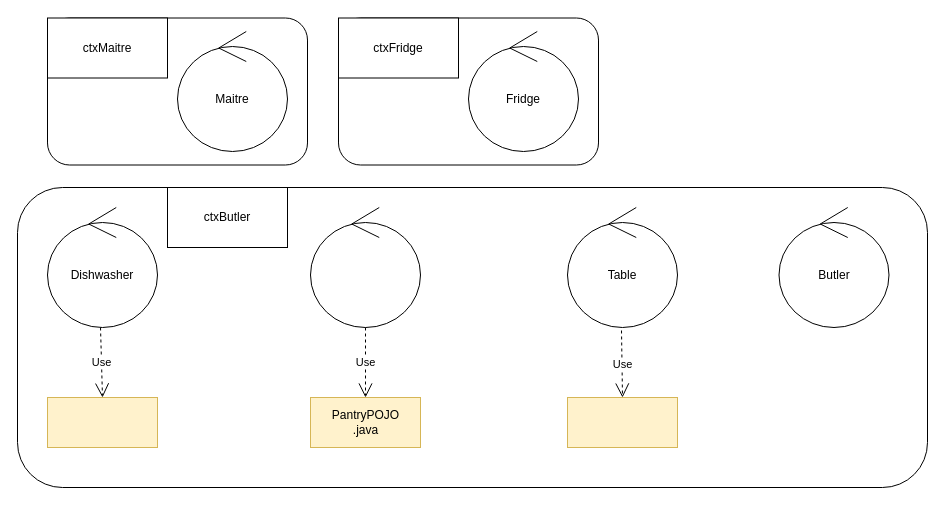
Image size: 945x505. Some labels were removed from this diagram. Here are the shapes that lost their labels. From the top down, the box of each, then its label:
(310, 206, 420, 328): Pantry
(46, 396, 158, 448): DishwasherPOJO .java
(566, 396, 678, 448): TablePOJO .java
